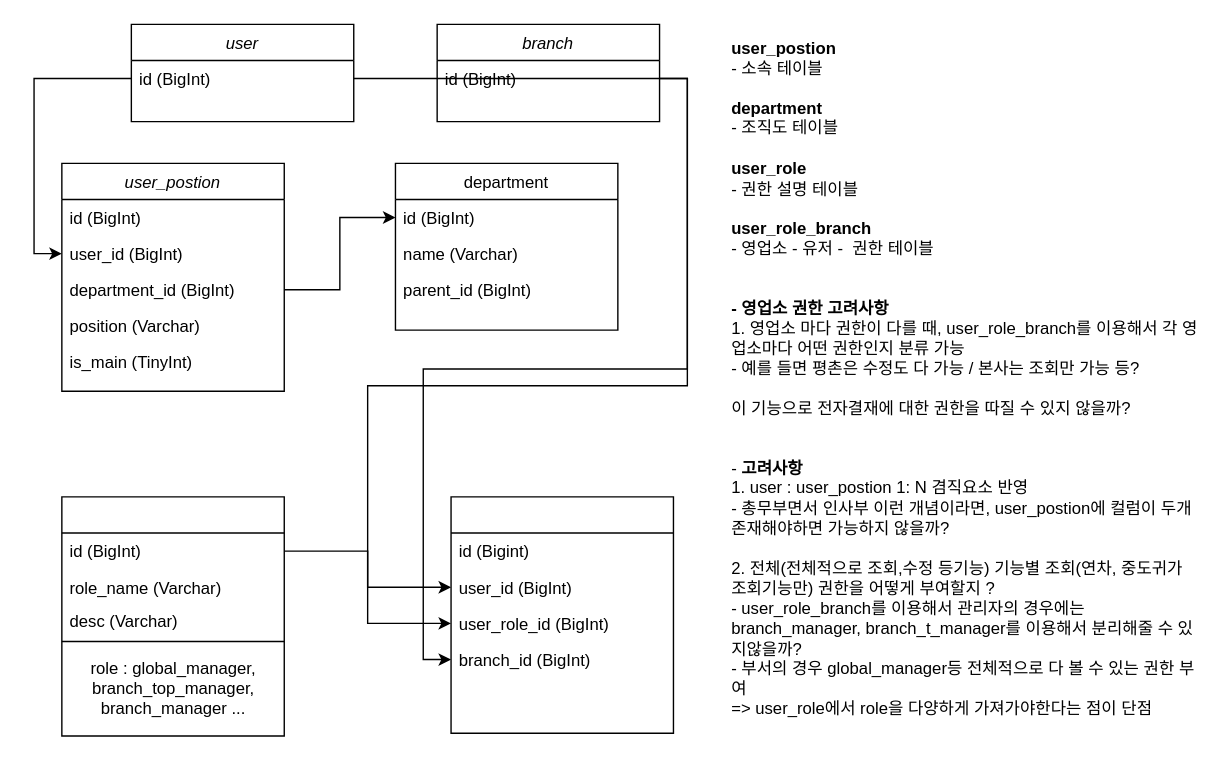
The diagram is 1226 pixels wide and 760 high, and some of its shapes have lost their labels. Here are the shapes that lost their labels. From the top down, the box of each, then its label:
(60, 496, 284, 736): user_role
(450, 496, 673, 733): user_role_branch
